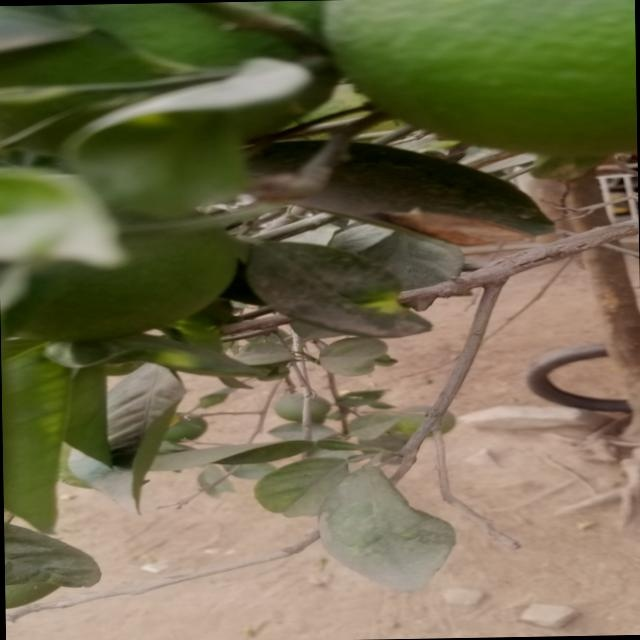agrume: (288, 0, 637, 162)
